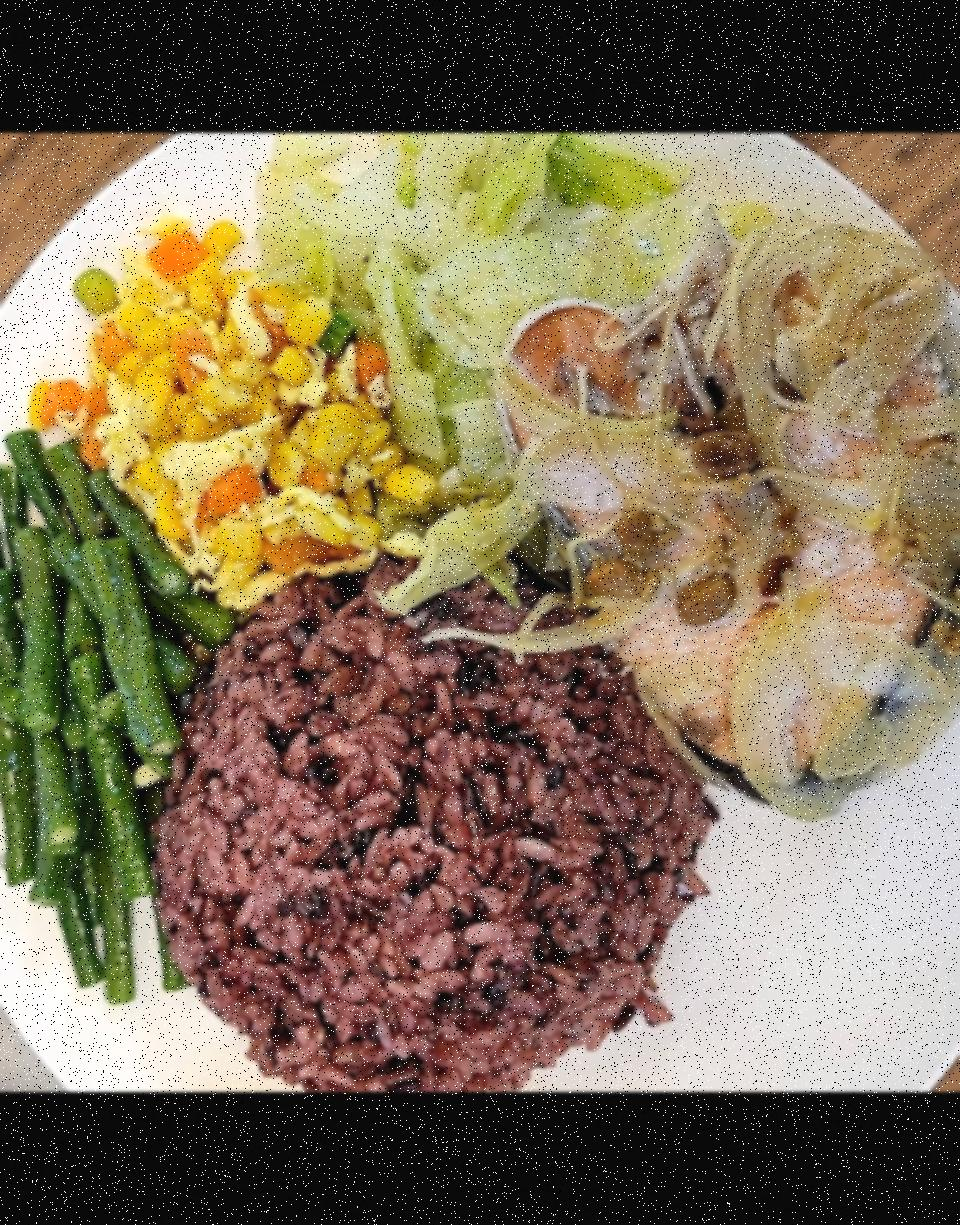plate: (0, 143, 960, 1093)
purple rice: (156, 576, 702, 1078)
salmon: (494, 216, 960, 798)
side dish: (253, 132, 646, 572), (51, 225, 400, 598), (0, 425, 195, 991)
